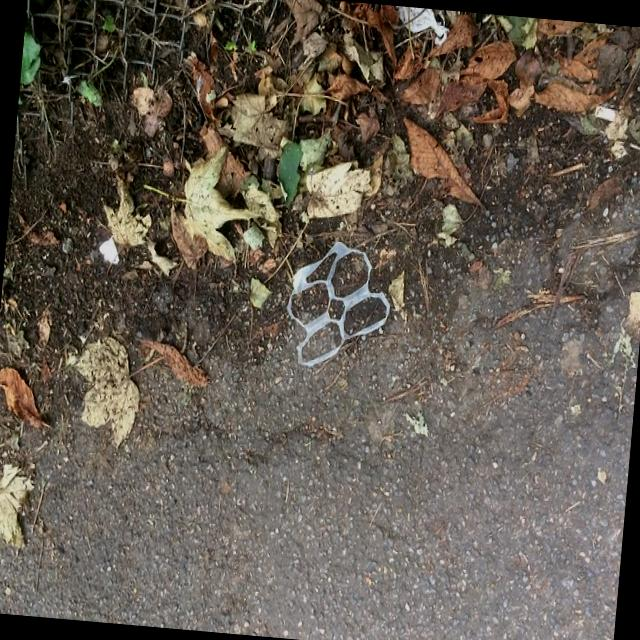Trash: (279, 230, 396, 372)
